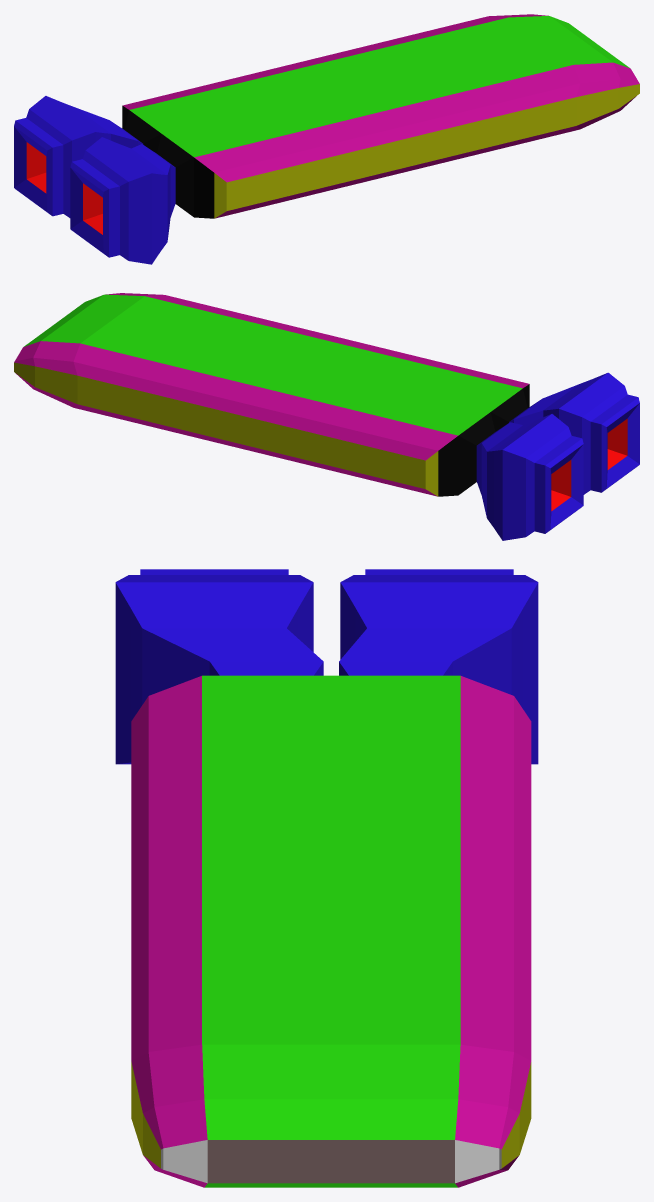
The picture shows the model from 3 angles, top to bottom: view 1: azimuth 30°, elevation 25°; view 2: azimuth 150°, elevation 25°; view 3: azimuth 270°, elevation 25°; orthographic projection. The views are drawn at different scales.
Visible parts, largest first — view 1: Box001; view 2: Box001; view 3: Box001.
Boxes of the visible parts, box(x1,y1,x2,y2) form: Box001: box(14, 14, 639, 264); Box001: box(14, 293, 639, 540); Box001: box(115, 569, 538, 1187).
Size of the model in its own units: 83.72 by 13.49 by 28.39.
